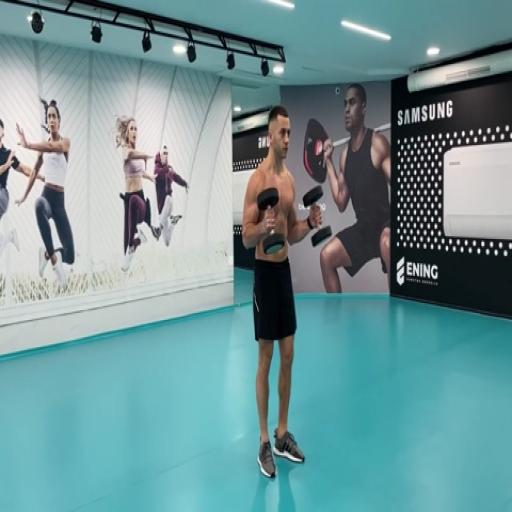exercise: (239, 104, 325, 482), (318, 81, 392, 296), (13, 95, 78, 292), (112, 112, 159, 274), (148, 141, 191, 250)
